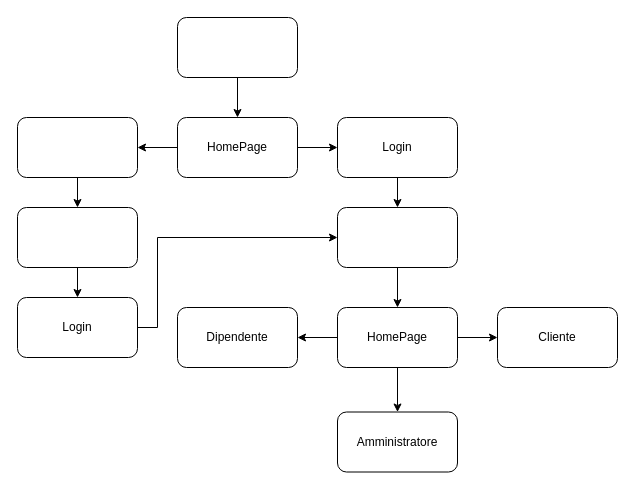
This 635x490 diagram has some shape labels left out. Here are the shapes that lost their labels. From the top down, the box of each, then its label:
(176, 16, 298, 78): Browser
(16, 116, 138, 178): Public
(16, 206, 138, 268): Registrazione
(336, 206, 458, 268): Private
